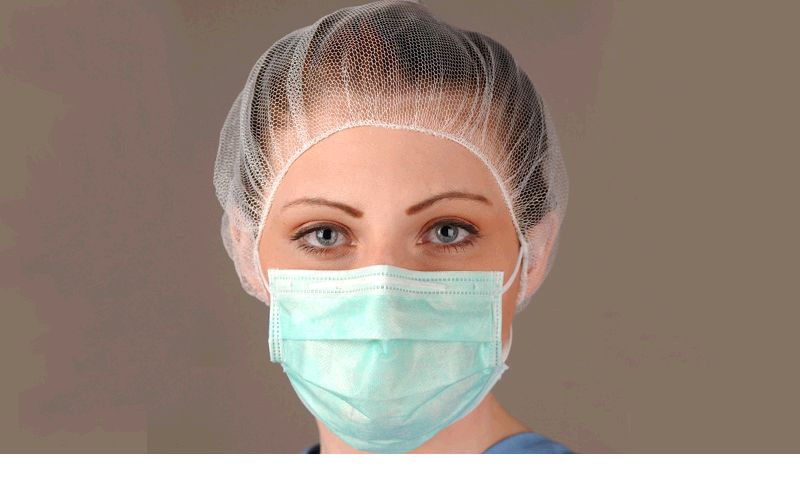face_mask: (262, 136, 515, 448)
